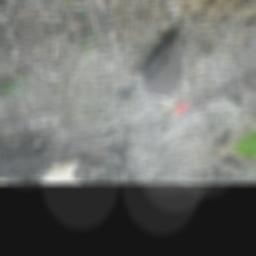Woodpecker: (108, 24, 217, 126)
